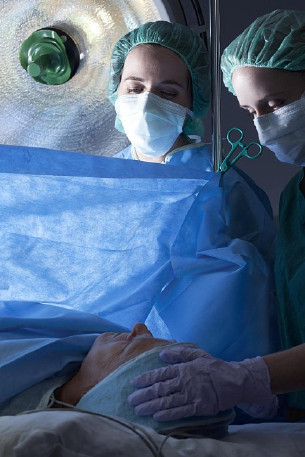face_mask: (118, 46, 188, 160), (232, 63, 304, 165)
